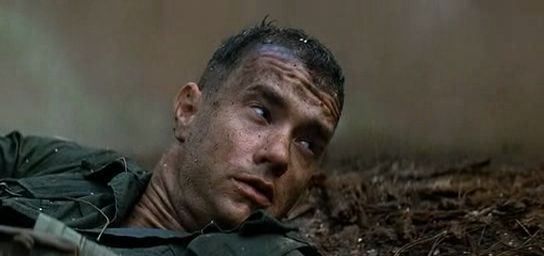cu: (1, 1, 544, 256)
face: (201, 57, 341, 224)
person: (1, 14, 345, 256)
